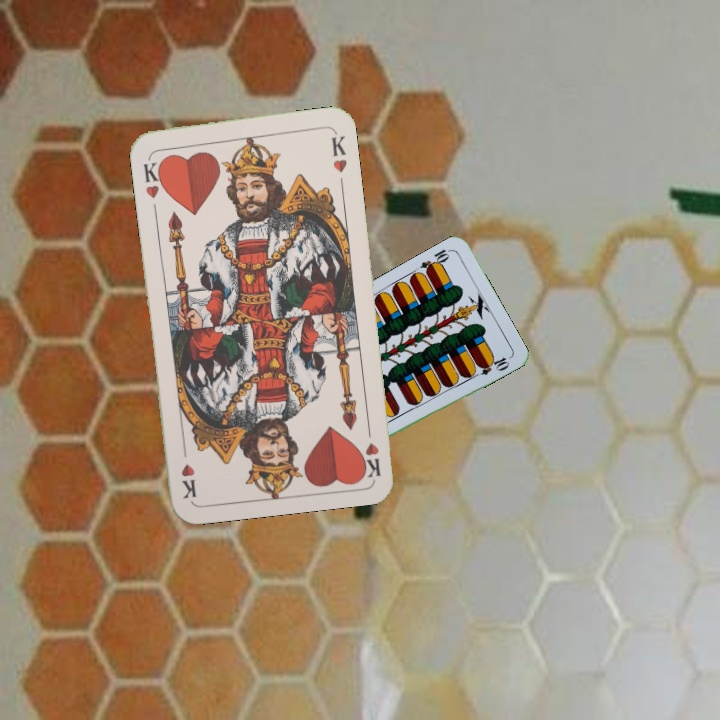E10: (416, 245, 454, 276)
HK: (358, 419, 384, 479), (139, 152, 168, 201)
